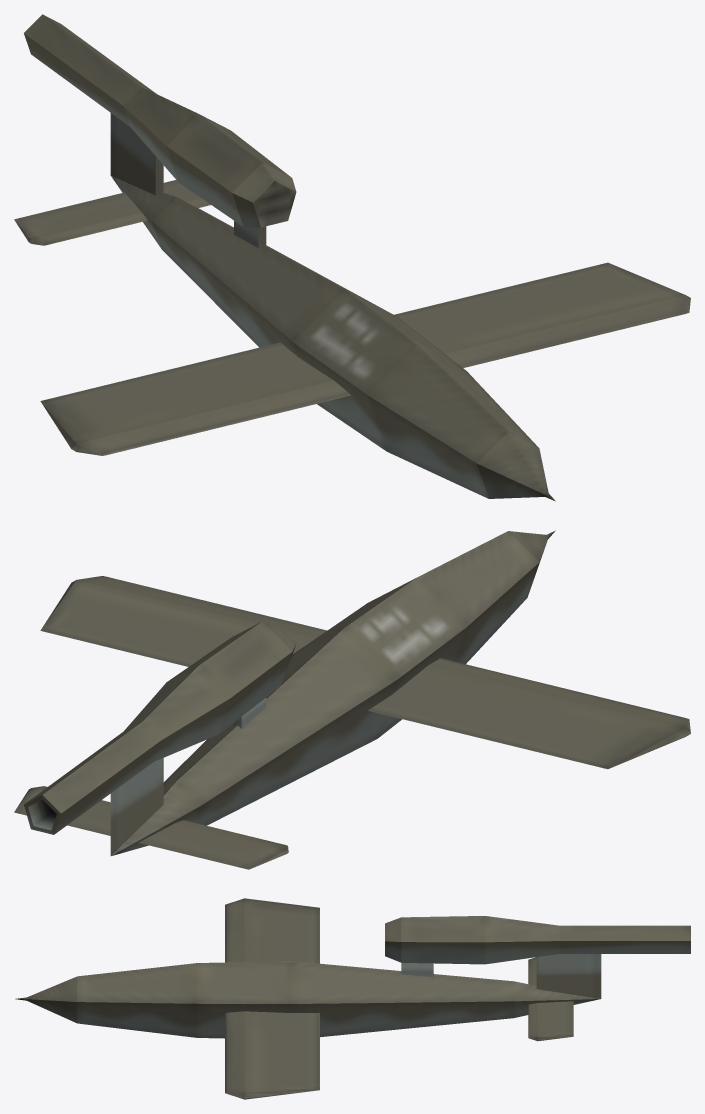
Rendered from V1-Rocket.obj.
3 views of the same model, one above another, from view 1: azimuth 30°, elevation 25°; view 2: azimuth 150°, elevation 25°; view 3: azimuth 270°, elevation 25° (orthographic). The views are drawn at different scales.
Parts seen in each view (by area): view 1: V1-Rocket; view 2: V1-Rocket; view 3: V1-Rocket.
Boxes of the visible parts, x1=… form: V1-Rocket: x1=14, y1=14, x2=690, y2=501; V1-Rocket: x1=14, y1=530, x2=690, y2=869; V1-Rocket: x1=15, y1=898, x2=690, y2=1099.
Bounding box in the file's own units: 7.71 × 2.05 × 11.08.
